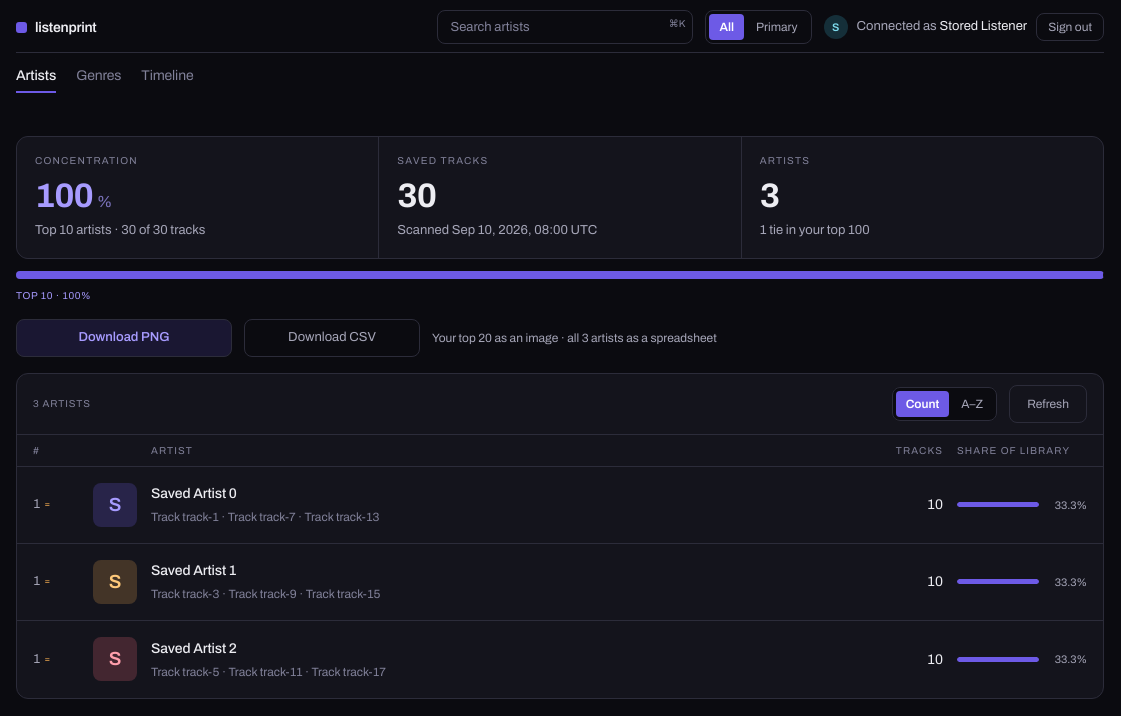
Test: searching a live library › filters the saved library the same way
Type "Saved Artist 1" into the search field labelled "Search artists" at (565, 27), box 437,10 -> 693,44
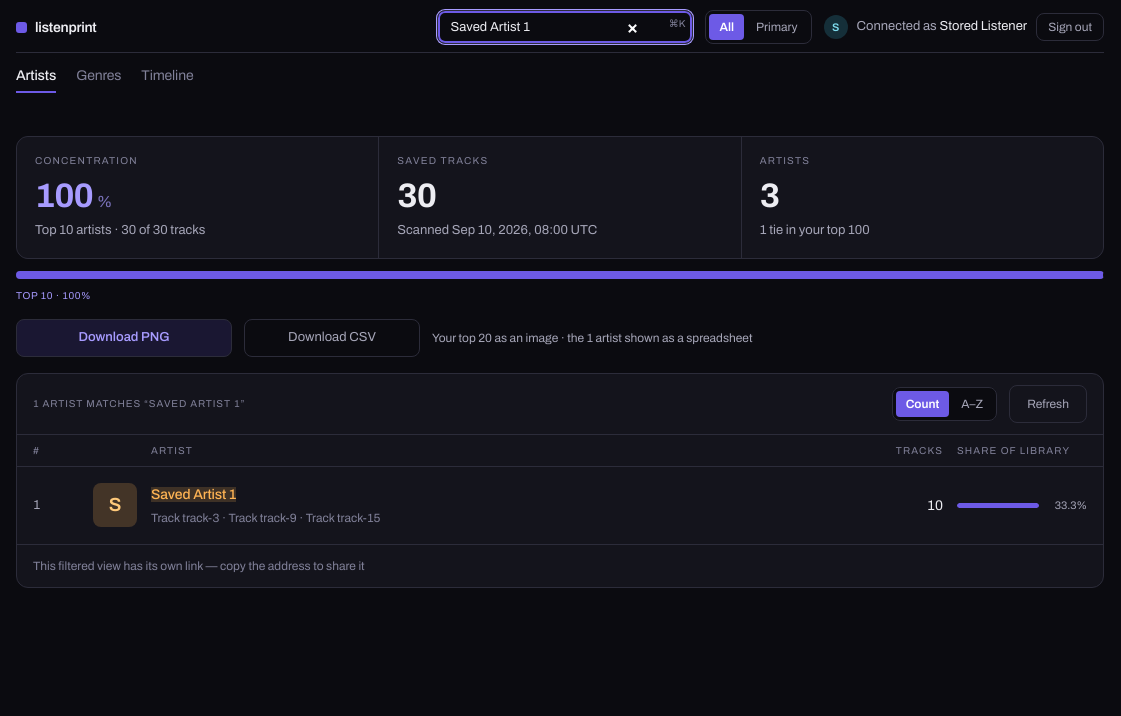
Result: the heading reads "1 artist matches “Saved Artist 1”" at 33,398 -> 245,409
